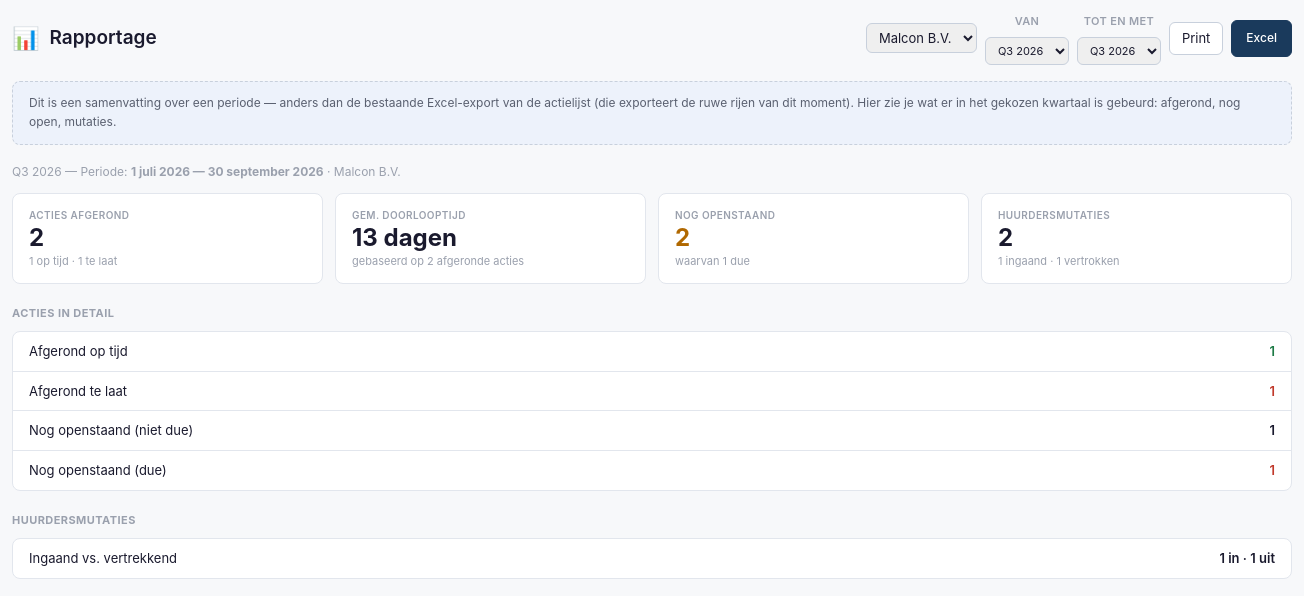
it: RapportagePage › wisselt van klant via de select
Select "Bowog" in the dropdown named "Kies klant" at (921,38), box [866, 23, 977, 53]
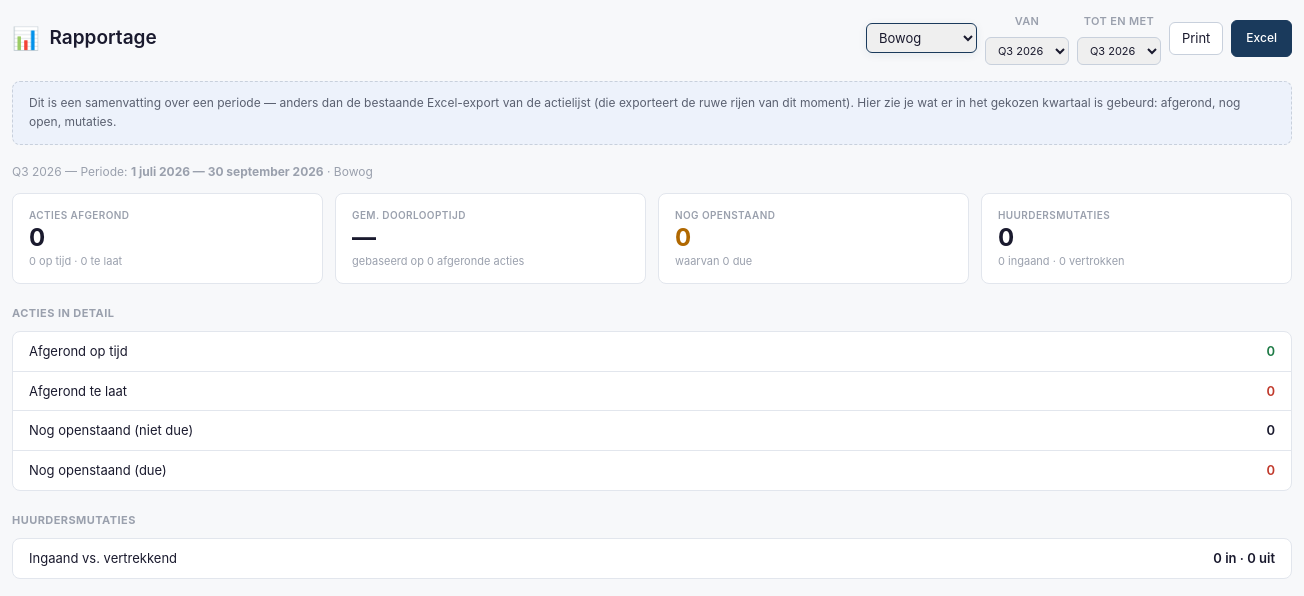
Result: the text "0" below "Acties afgerond" is shown at [29, 223, 45, 252]
